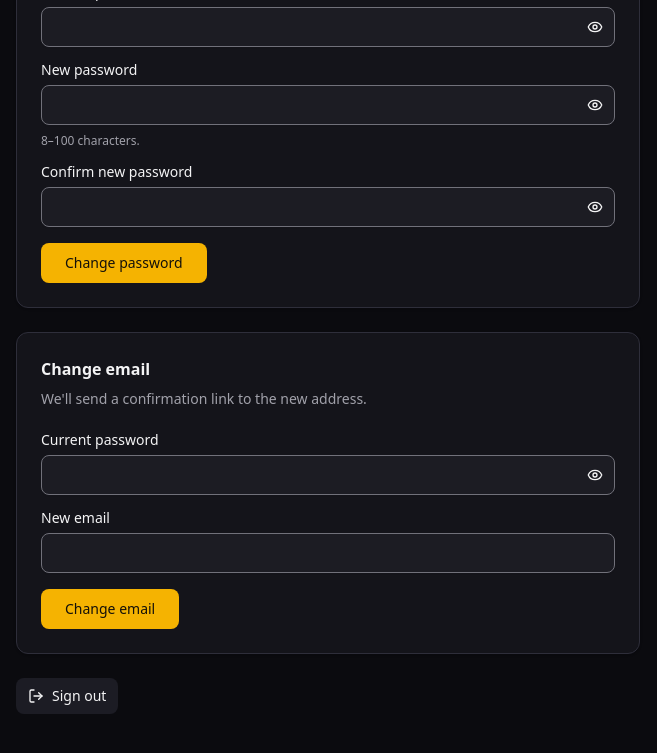
Test: change email › success → confirmation alert with the new address
The width and height of the screenshot is (657, 753).
(page scrolled)
Type "old-password" into the 2nd password field labelled "Current password" at (328, 475), box [41,455,615,495]
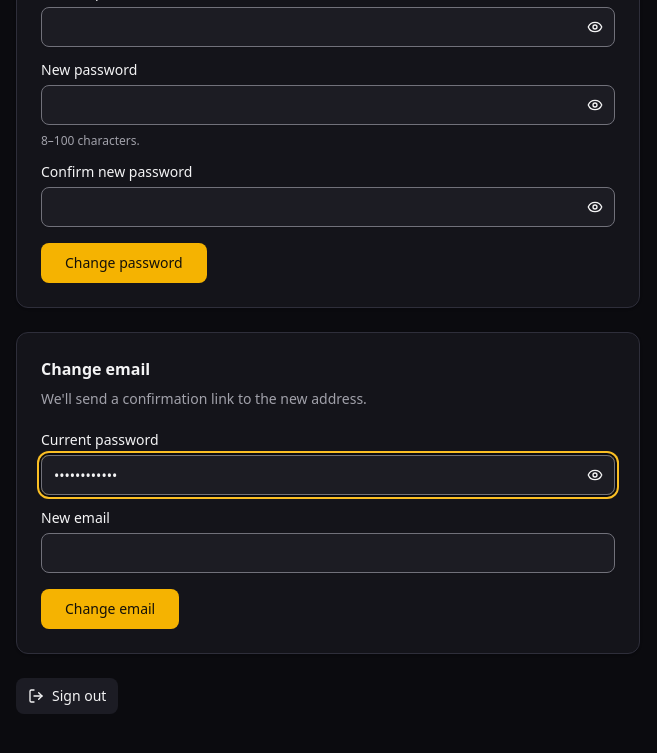
Type "new@example.com" into the field labelled "New email" at (328, 553), box [41,533,615,573]
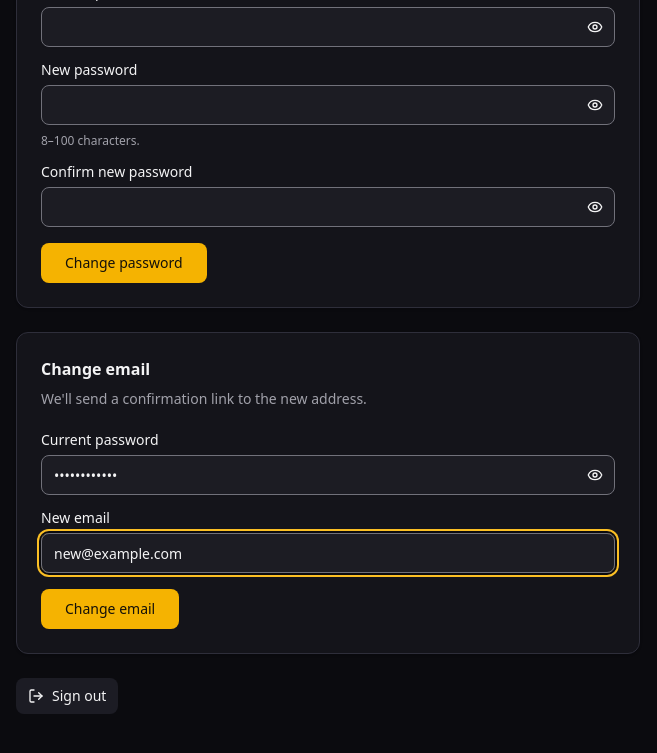
Click the button "Change email" at (110, 609), box [41,589,179,629]
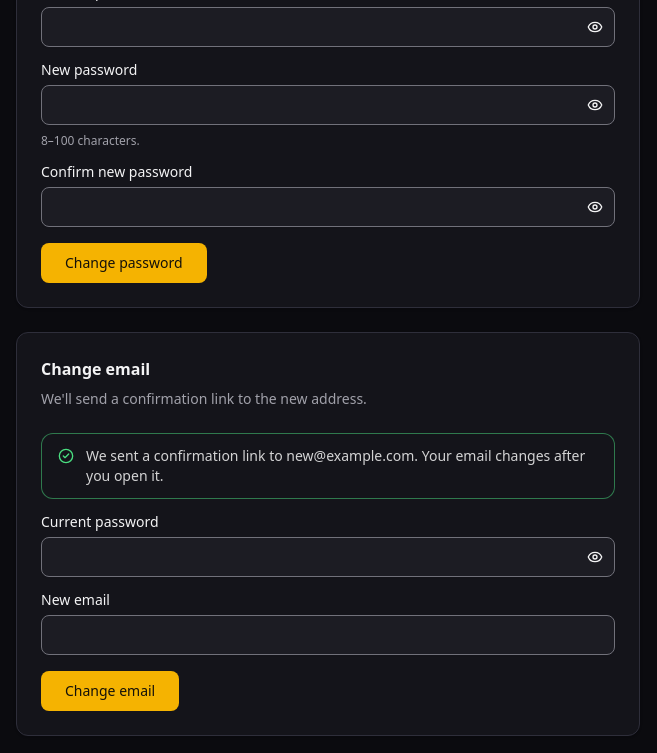
Expected: the text "We sent a confirmation link to new@example.com. Your email changes after you open it." is shown, [86,446,598,486]
